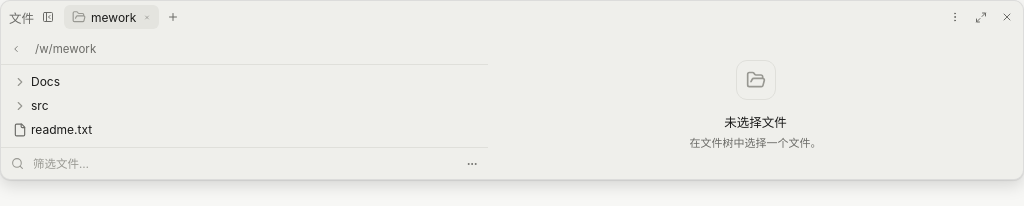
Test: FilesPane › warns that a truncated file is missing its tail
Click the list item "readme.txt" at (53, 130), box [13,122,92,137]
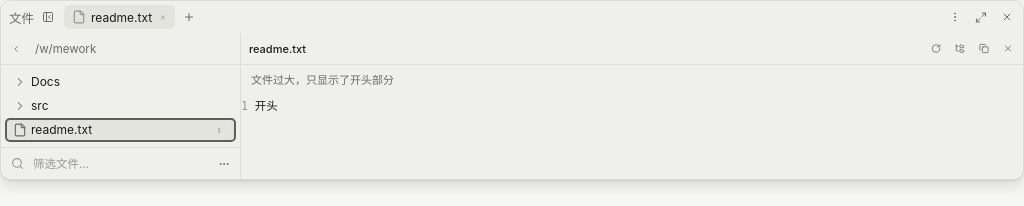
expect the text "文件过大，只显示了开头部分" is shown: met, box [251,73,394,87]
expect the element named "readme.txt" shows "开头": met, box [255,99,278,113]
